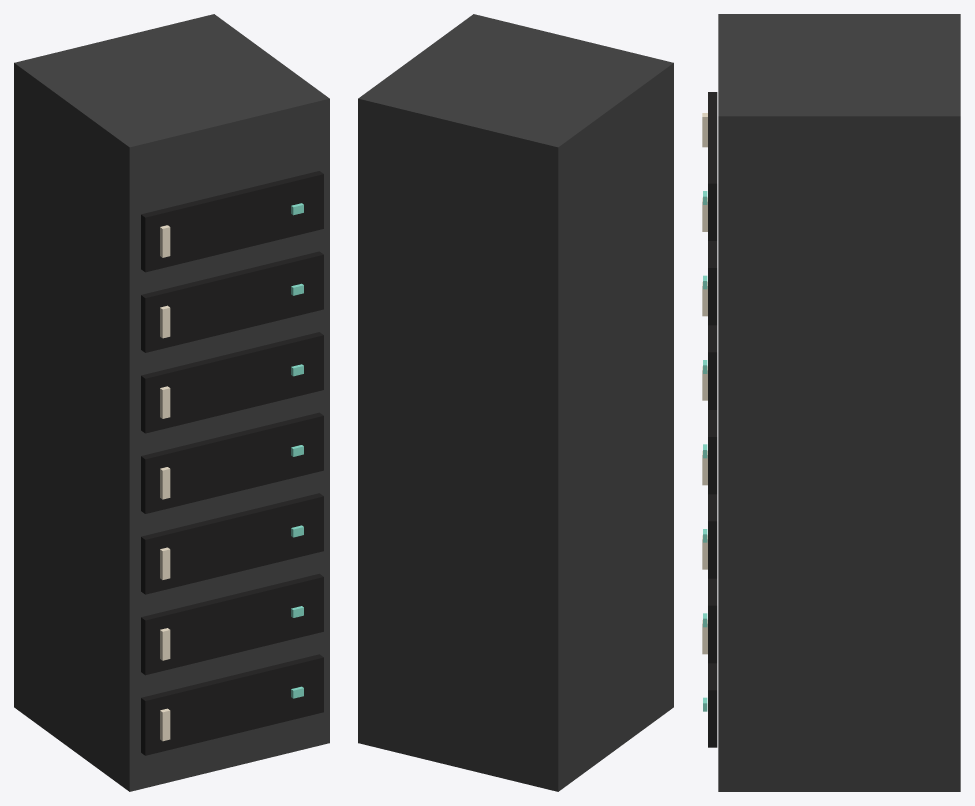
The picture shows the model from 3 angles, left to right: view 1: azimuth 30°, elevation 25°; view 2: azimuth 150°, elevation 25°; view 3: azimuth 270°, elevation 25°; orthographic projection. The views are drawn at different scales.
Visible parts, largest first — view 1: Server case, Server.006, Server.002, Server.003, Server.001, Server.004, Server, Server.005; view 2: Server case; view 3: Server case, Server.006, Server.001, Server, Server.002, Server.004, Server.003, Server.005.
Boxes of the visible parts, x1=… form: Server case: x1=14, y1=14, x2=329, y2=791; Server.006: x1=141, y1=171, x2=323, y2=272; Server.002: x1=141, y1=493, x2=323, y2=594; Server.003: x1=141, y1=412, x2=323, y2=513; Server.001: x1=141, y1=573, x2=323, y2=675; Server.004: x1=141, y1=332, x2=323, y2=433; Server: x1=141, y1=654, x2=323, y2=755; Server.005: x1=141, y1=251, x2=323, y2=352; Server case: x1=358, y1=14, x2=673, y2=791; Server case: x1=718, y1=14, x2=960, y2=791; Server.006: x1=708, y1=92, x2=717, y2=240; Server.001: x1=708, y1=578, x2=717, y2=663; Server: x1=708, y1=663, x2=717, y2=747; Server.002: x1=708, y1=494, x2=717, y2=578; Server.004: x1=708, y1=325, x2=717, y2=409; Server.003: x1=708, y1=410, x2=717, y2=494; Server.005: x1=708, y1=241, x2=717, y2=325.
Size of the model in its own units: 0.65 by 2 by 0.6925.
Materials: 1 (1 with a texture image).
